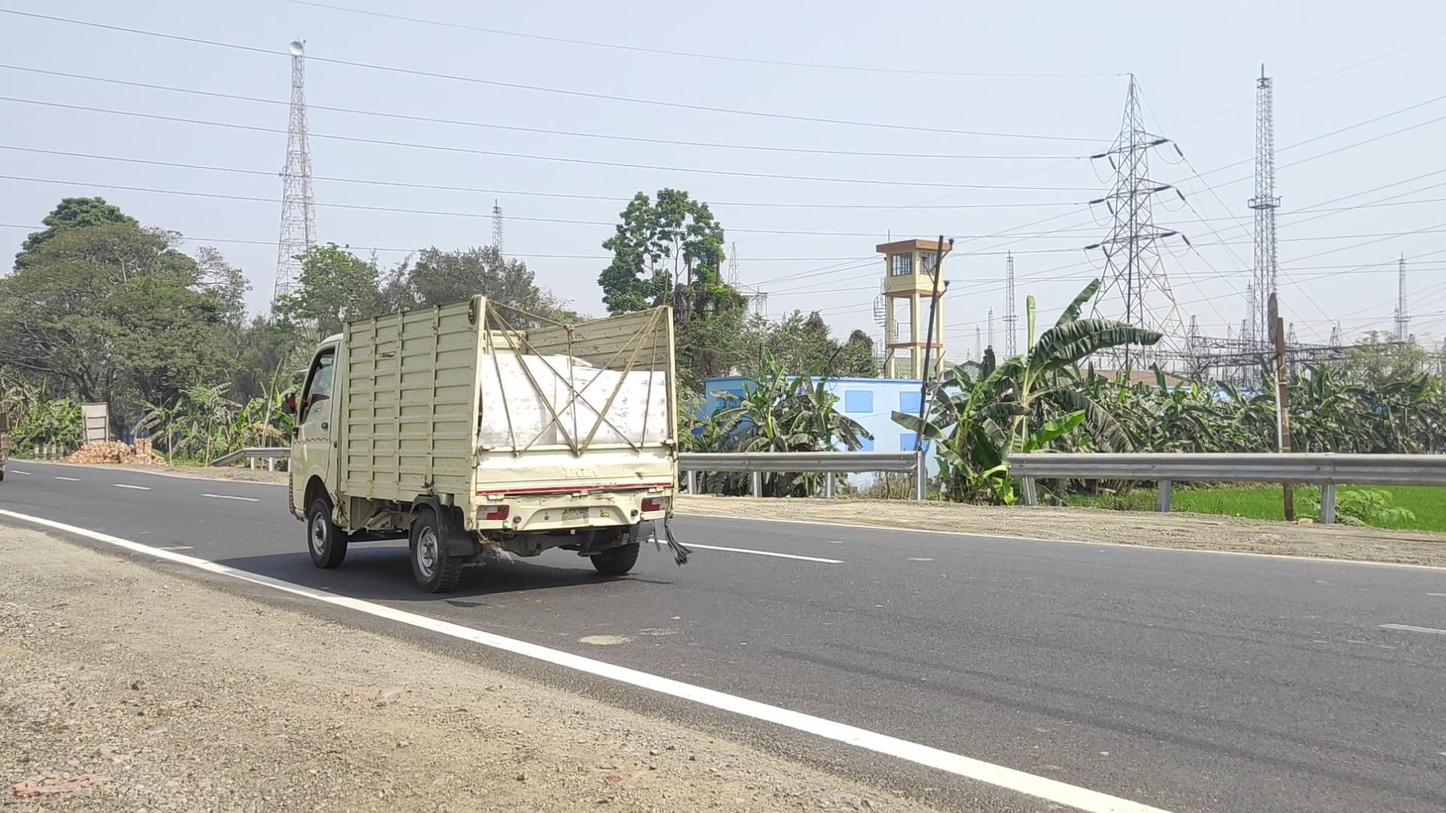van: (282, 294, 679, 592)
